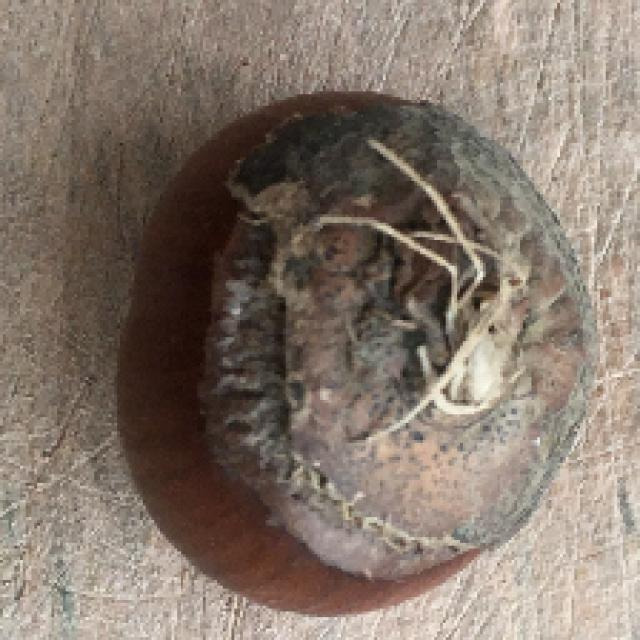damagedHazelnut: (114, 82, 595, 610)
